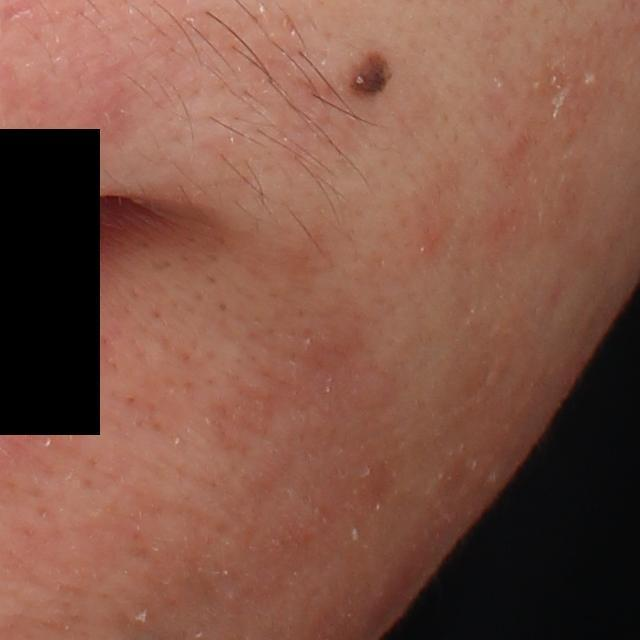nevus: (342, 47, 403, 103)
